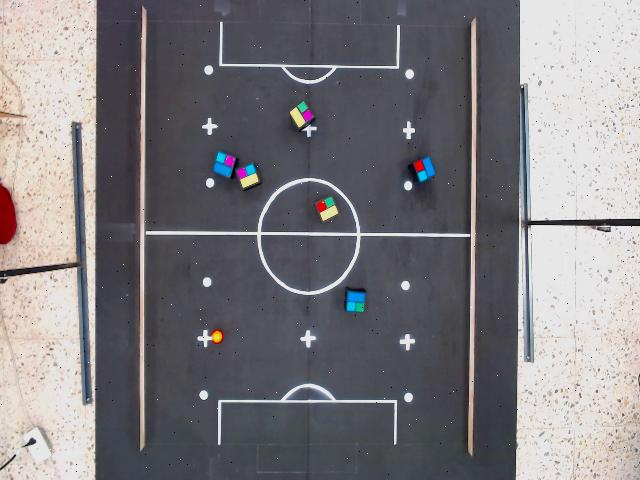robot: (287, 100, 315, 131), (313, 194, 341, 224), (234, 162, 261, 191), (411, 155, 437, 185), (212, 151, 236, 179), (345, 289, 367, 315)
